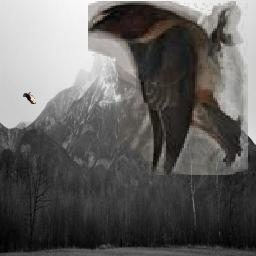Cuckoo: (24, 92, 37, 104)
Swallow: (88, 1, 248, 175)
